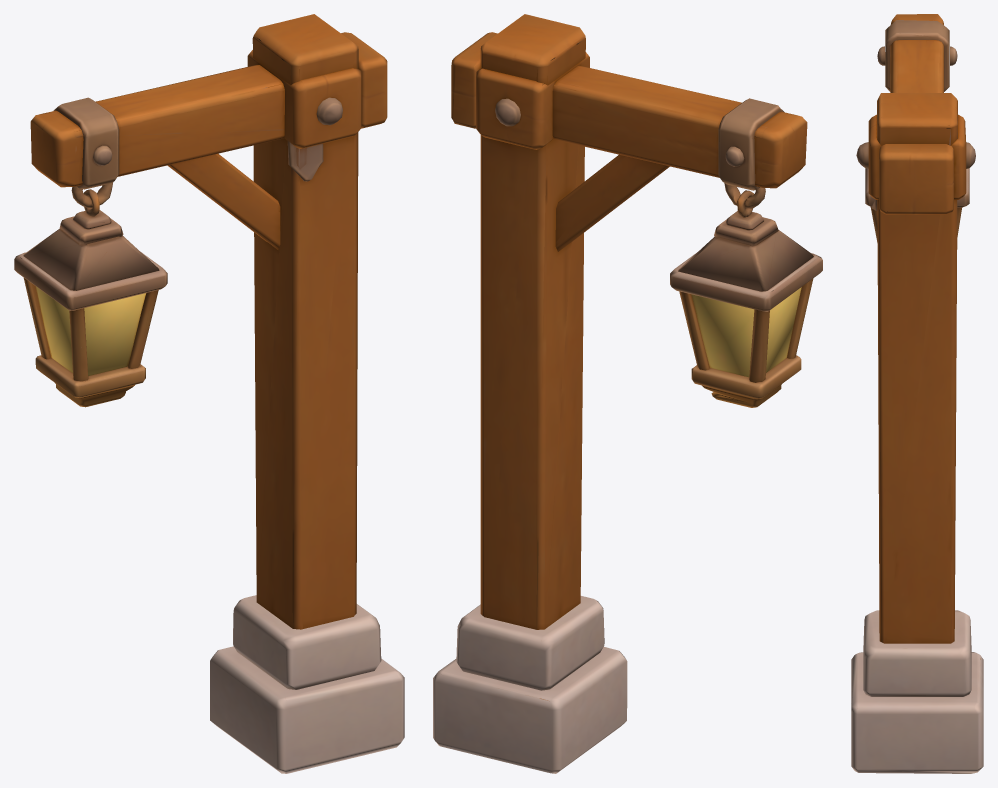
The model's file is lamp_wood.glb.
3 views of the same model, side by side, from view 1: azimuth 30°, elevation 25°; view 2: azimuth 150°, elevation 25°; view 3: azimuth 270°, elevation 25° (orthographic). The views are drawn at different scales.
Parts seen in each view (by area): view 1: geometry_0; view 2: geometry_0; view 3: geometry_0.
Boxes of the visible parts, box(x1,y1,x2,y2) form: geometry_0: box(14, 14, 404, 773); geometry_0: box(433, 14, 822, 773); geometry_0: box(851, 14, 983, 773).
Size of the model in its own units: 0.4697 by 0.9521 by 0.1782.
1 material, 1 textured.
